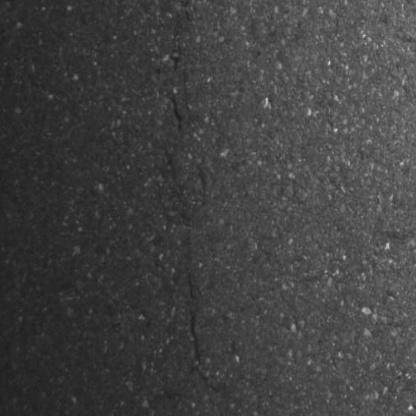Cracks: (186, 305, 221, 397), (165, 44, 188, 133), (176, 0, 196, 9)
